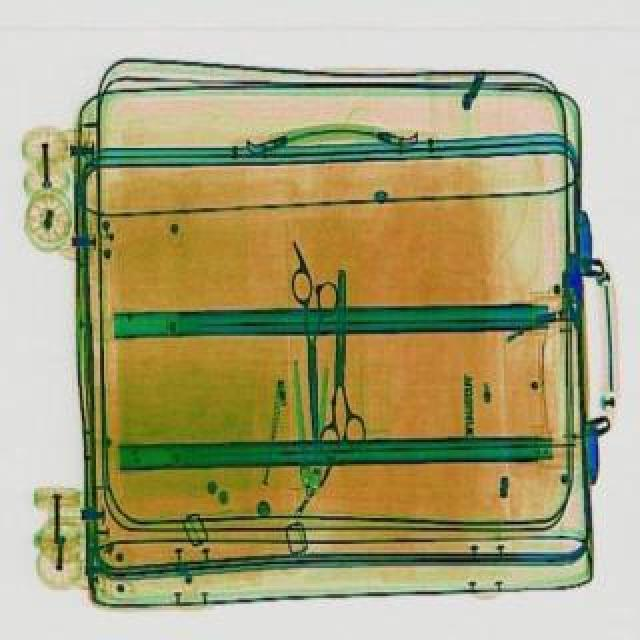pliers: (292, 266, 348, 438), (320, 270, 368, 460)
